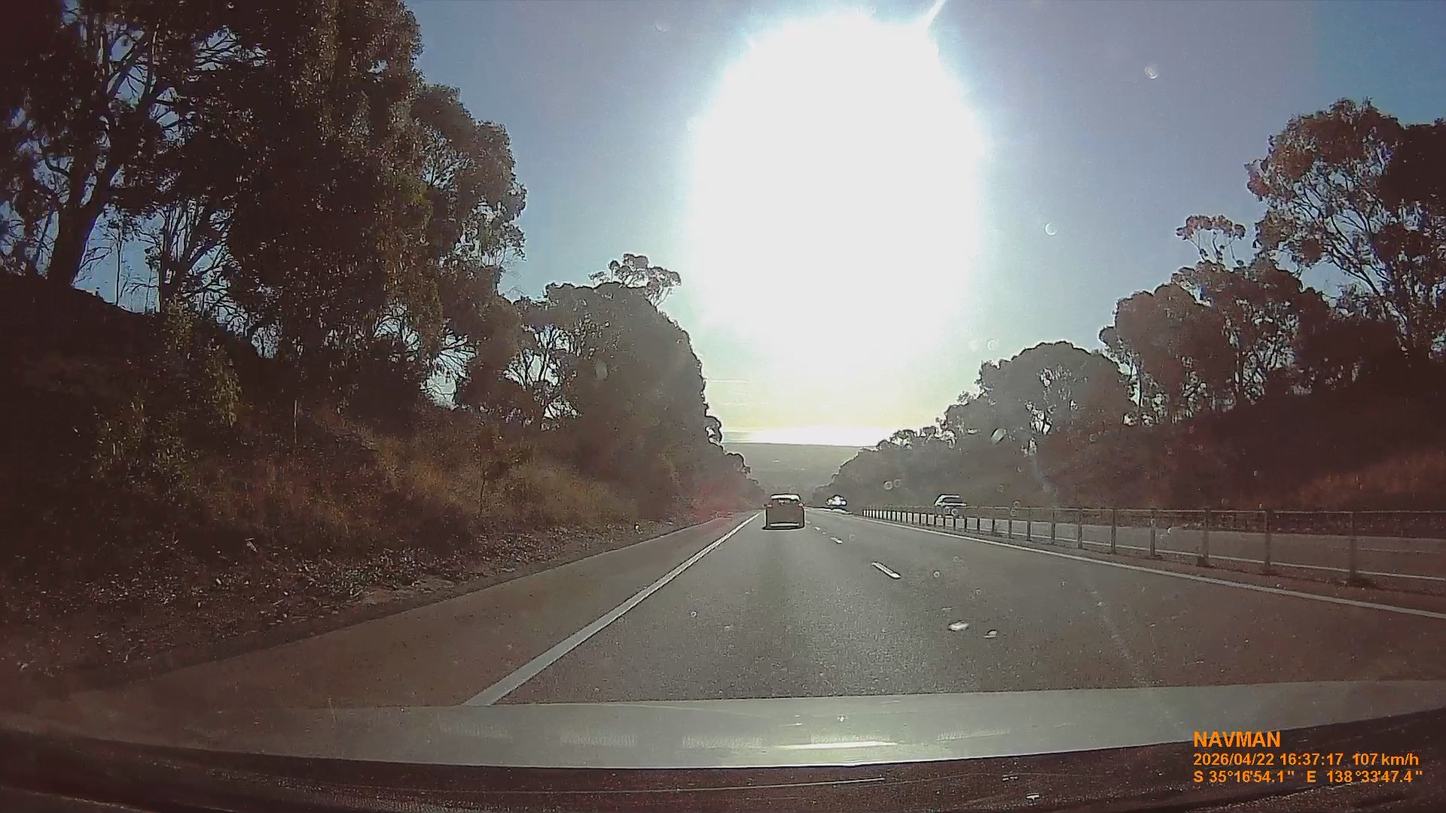road barriers: (853, 506, 1445, 590)
